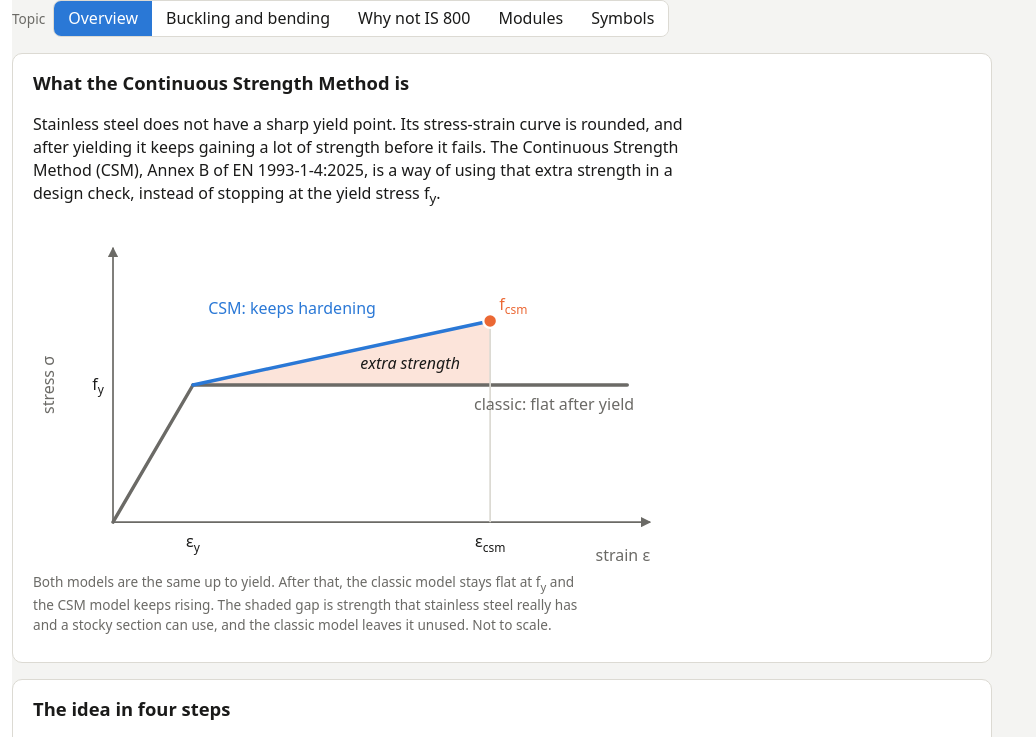
Scenario: Help page › describes all the modules, compression and bending included
What coordinates should you click on to do the following:
click the radio button labelled "Modules"
I would click on:
 (531, 19)
Its box is [484, 1, 577, 36].
(page scrolled)
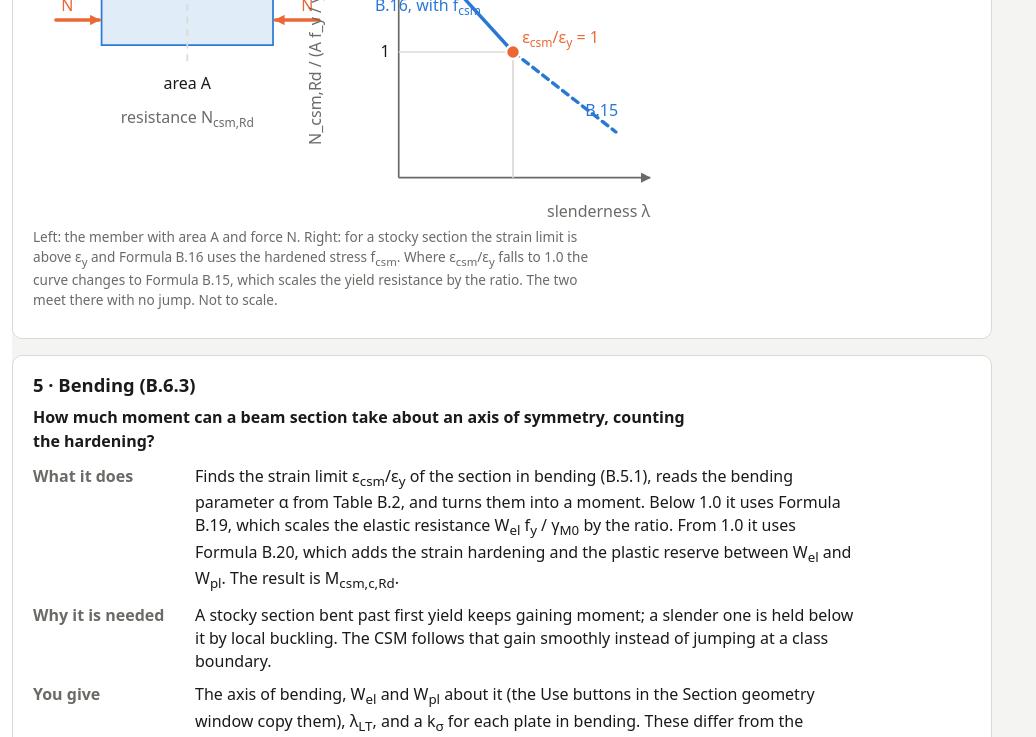
Result: the heading "5 · Bending (B.6.3)" is shown at [33, 372, 196, 397]
